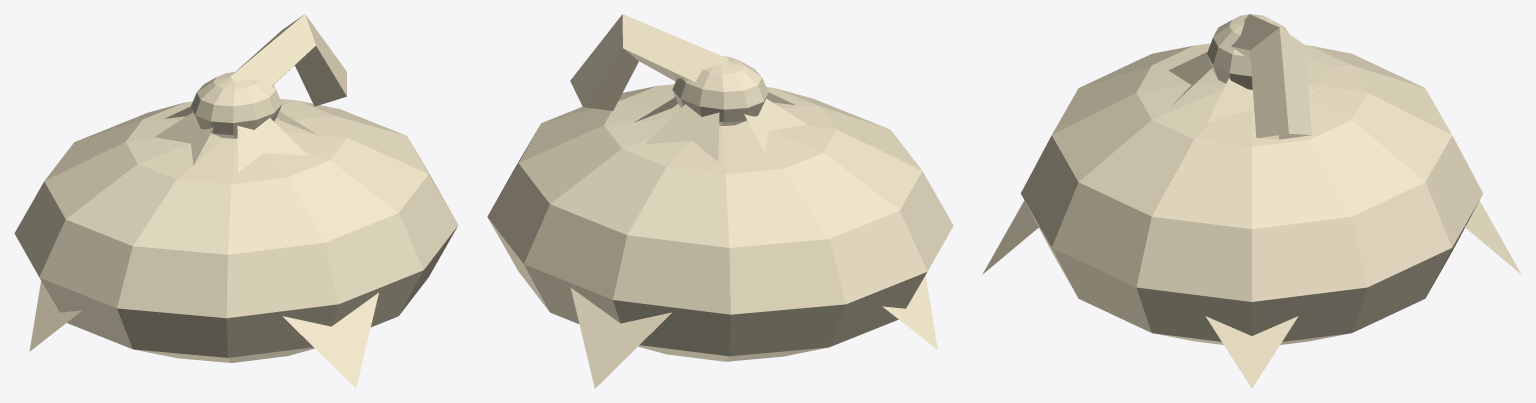
The picture shows the model from 3 angles, left to right: view 1: azimuth 30°, elevation 25°; view 2: azimuth 150°, elevation 25°; view 3: azimuth 270°, elevation 25°; orthographic projection. The views are drawn at different scales.
Parts seen in each view (by area): view 1: BA-0027 batched; view 2: BA-0027 batched; view 3: BA-0027 batched.
Part boxes in pixels (box(x1,y1,x2,y2)): BA-0027 batched: box(14, 14, 458, 388); BA-0027 batched: box(487, 14, 953, 388); BA-0027 batched: box(982, 14, 1521, 388).
Bounding box in the file's own units: 0.42 × 0.2808 × 0.42.
